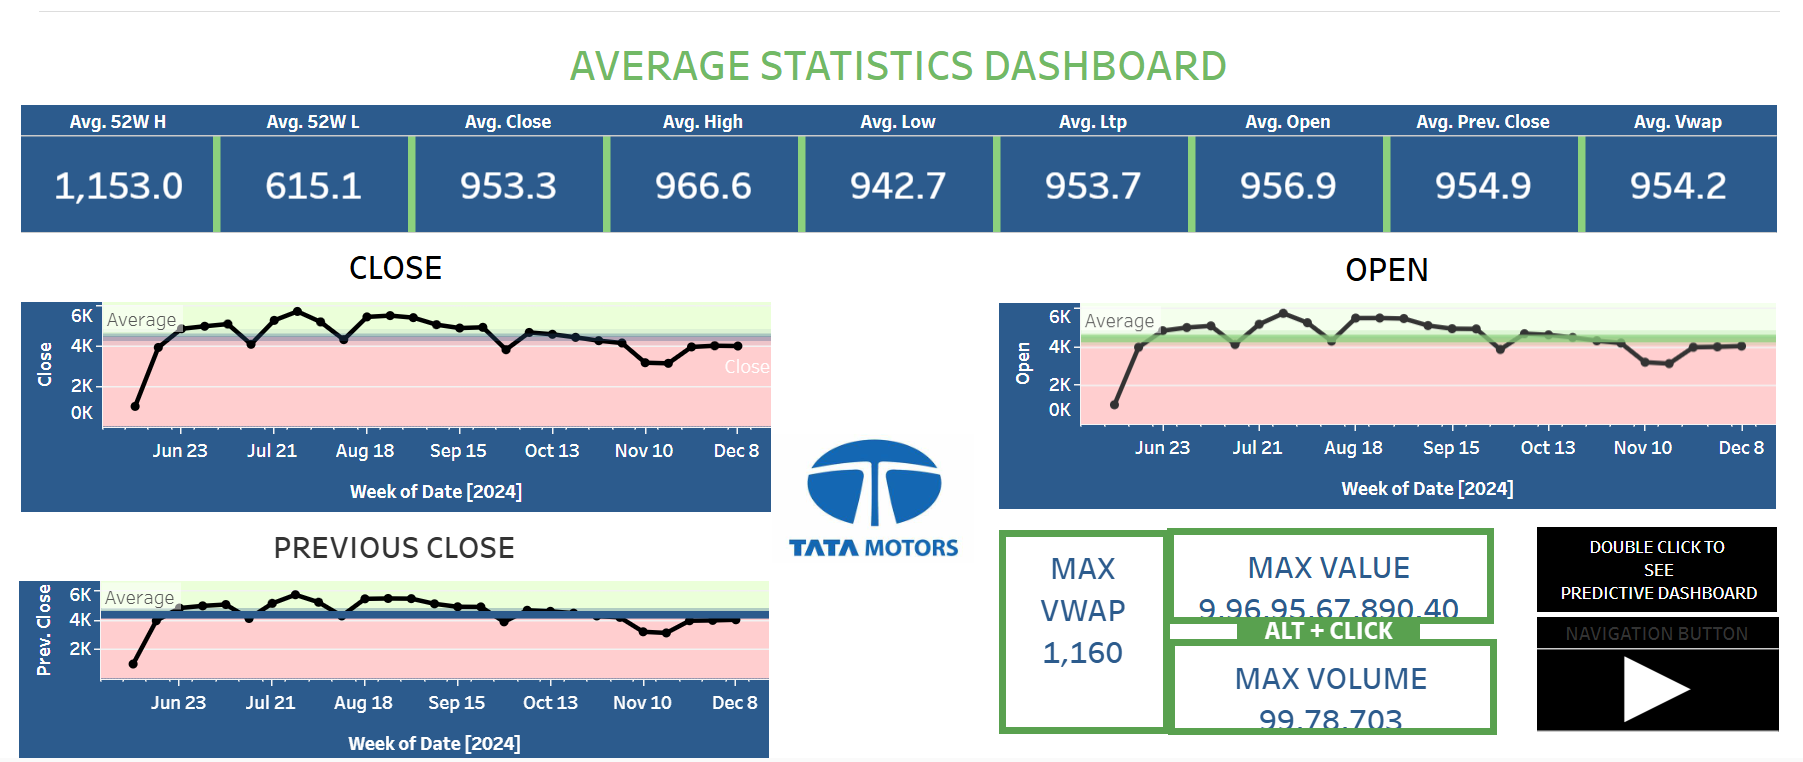

The dashboard page shown, as its layout file describes it:
{"tool":"tableau","page":{"name":"MD","canvas":[1000,1000],"units":"permille","ordinal":0},"visuals":[{"type":"worksheet","title":"AVGMEAS","mark":"Automatic","box":[24.9,18.8,938.9,277.5]},{"type":"worksheet","title":"CLOSE","mark":"Automatic","rows":["close "],"cols":["Date "],"box":[24.9,298.9,400.9,371.3]},{"type":"worksheet","title":"OPEN","mark":"Automatic","rows":["OPEN "],"cols":["Date "],"box":[548,301.6,415.2,364.6]},{"type":"image","box":[426.4,565.7,118.5,172.9]},{"type":"worksheet","title":"BTN","mark":"Shape","cols":["Calculation_85568418070634498"],"box":[835.4,690.4,129.1,276.1]},{"type":"worksheet","title":"MAX VAL","mark":"Automatic","box":[637.8,693,174.6,128.7]},{"type":"worksheet","title":"Sheet 18","mark":"Automatic","box":[547.4,694.4,91.7,273.5]},{"type":"dashboard-object","box":[675.2,813.7,97.9,29.5]},{"type":"worksheet","title":"MAX V0","mark":"Automatic","box":[638.4,841.8,175.2,127.4]}]}

Visuals, with their boxes on the dashboard's canvas, which has no fixed pixel size, in thousandths of its width and height (x1, y1, x2, y2). These are canvas units, not pixel positions in the 1803x762 screenshot, which may show the page scaled, cropped or inside an application window:
"AVGMEAS" worksheet: 25 19 964 296
"CLOSE" worksheet: 25 299 426 670
"OPEN" worksheet: 548 302 963 666
image: 426 566 545 739
"BTN" worksheet (Shape marks): 835 690 964 966
"MAX VAL" worksheet: 638 693 812 822
"Sheet 18" worksheet: 547 694 639 968
dashboard-object: 675 814 773 843
"MAX V0" worksheet: 638 842 814 969
